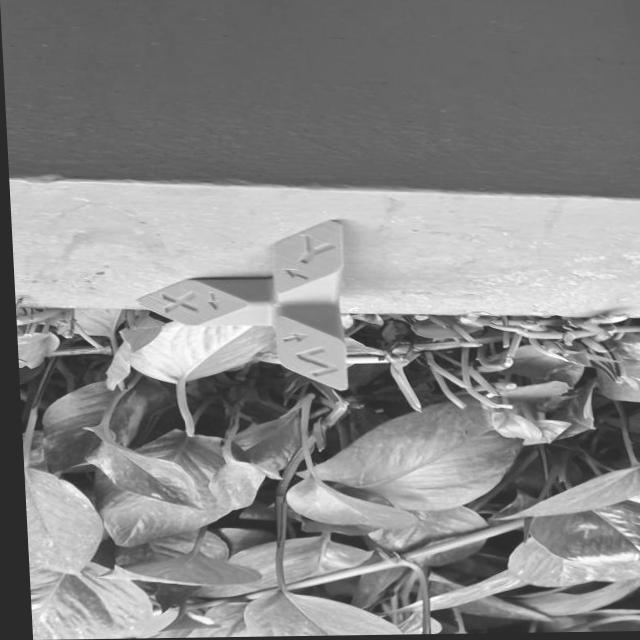eje: (128, 219, 354, 395)
